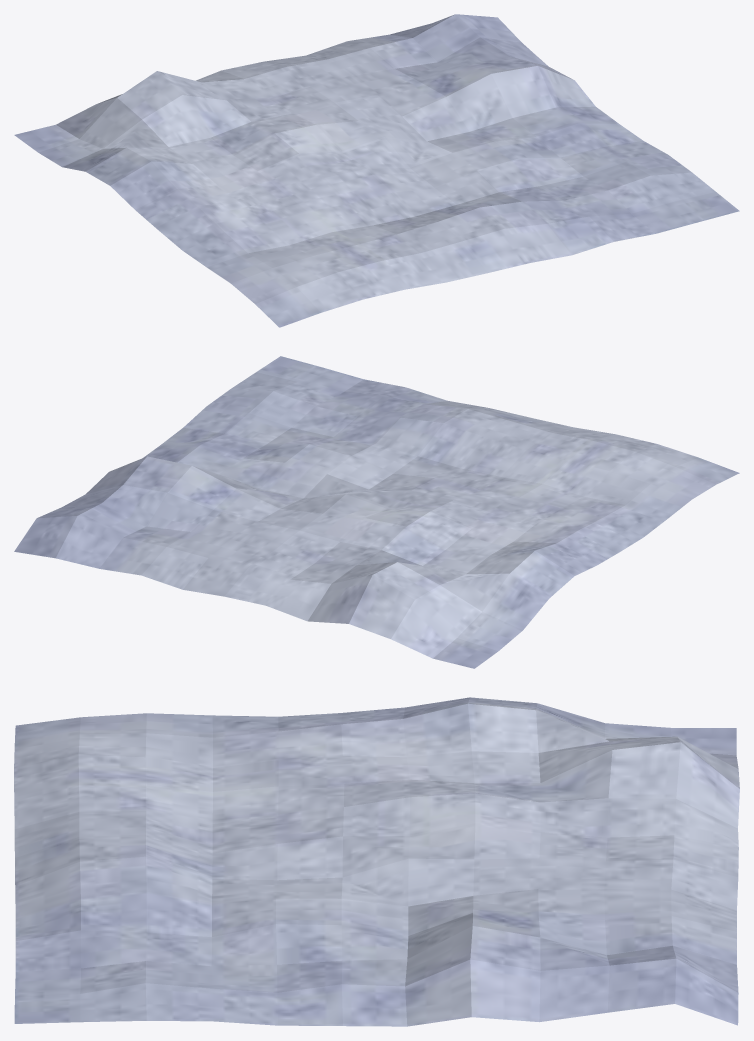
File: ground.glb
3 renders of one model, top to bottom at view 1: azimuth 30°, elevation 25°; view 2: azimuth 150°, elevation 25°; view 3: azimuth 270°, elevation 25°, orthographic. The views are drawn at different scales.
Visible parts, largest first — view 1: ground-col; view 2: ground-col; view 3: ground-col.
Boxes of the visible parts, <box> form: ground-col: <box>14,14,739,327</box>; ground-col: <box>14,356,739,668</box>; ground-col: <box>14,697,739,1026</box>.
Bounding box in the file's own units: 711 × 71.89 × 708.
Materials: 1 (1 with a texture image).
